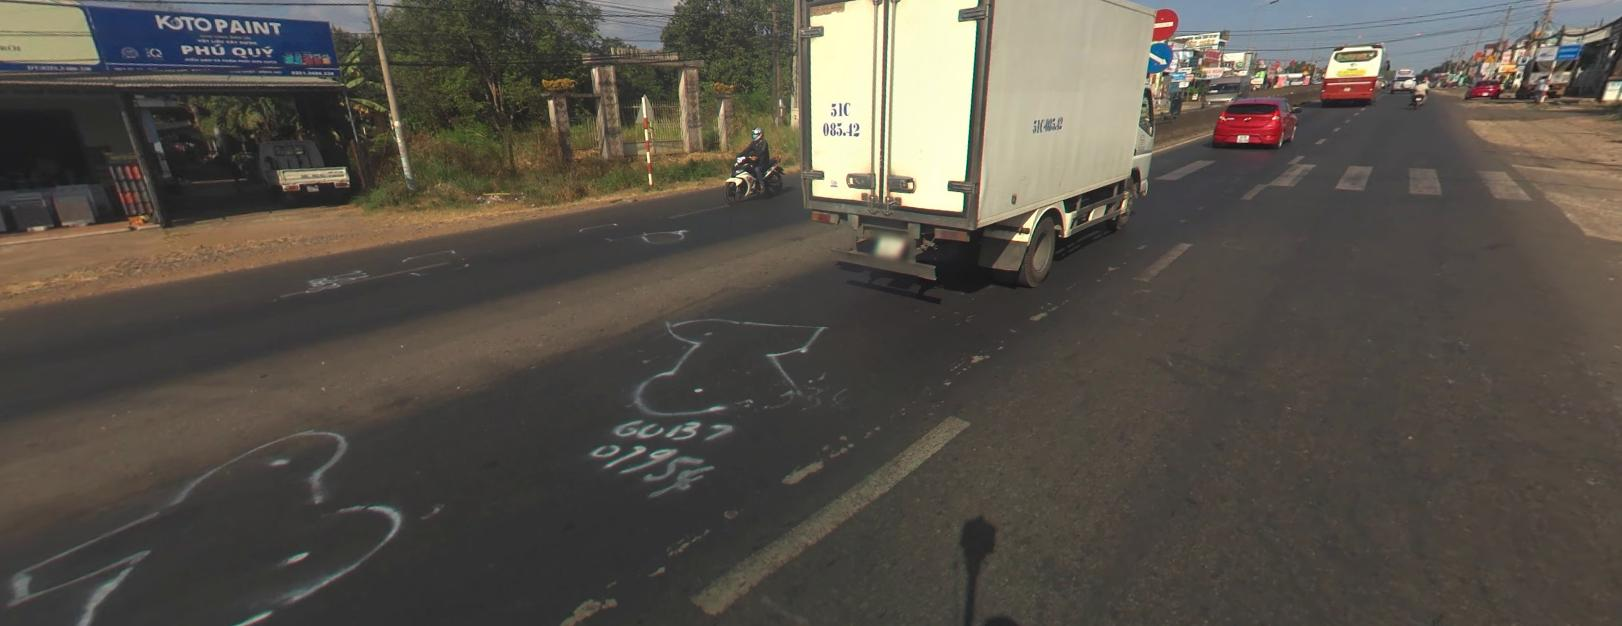Cam nguoc chieu: (1146, 8, 1177, 40)
Hieu lenh: (1143, 43, 1173, 73)
Nguy hiem: (1483, 52, 1495, 62)
